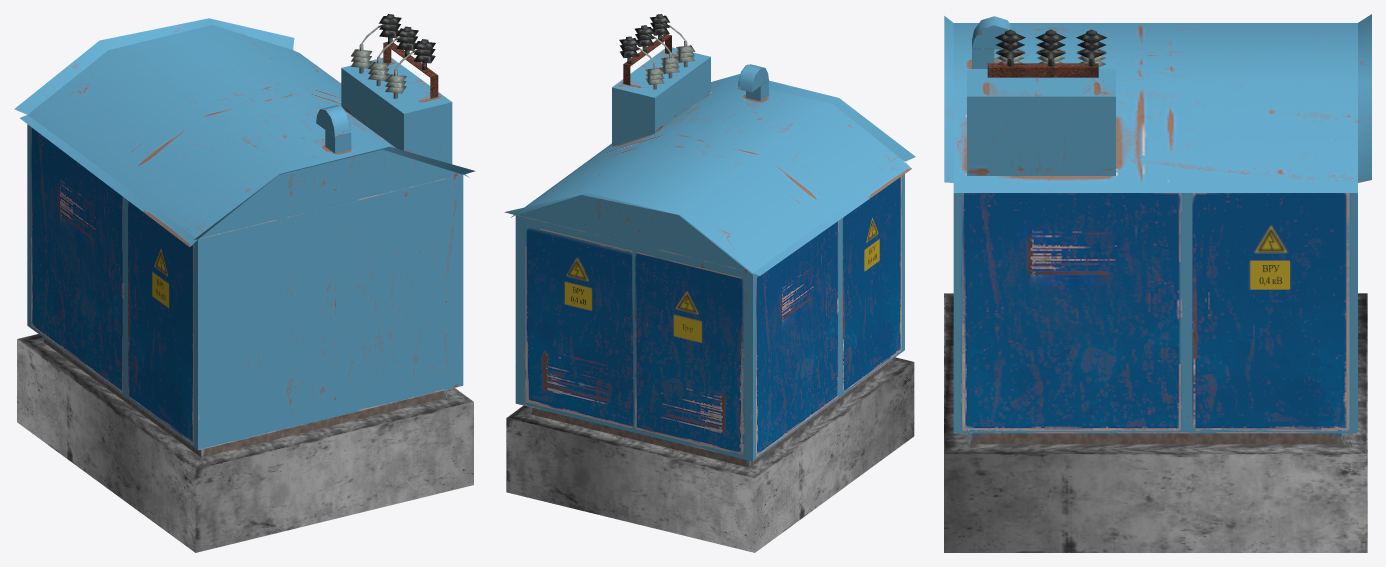
The model's file is transformer_station.obj.
3 views of the same model, side by side, from view 1: azimuth 30°, elevation 25°; view 2: azimuth 150°, elevation 25°; view 3: azimuth 270°, elevation 25° (orthographic). The views are drawn at different scales.
Parts seen in each view (by area): view 1: T-Budka, addition; view 2: T-Budka, addition; view 3: T-Budka, addition.
Boxes of the visible parts, left/top/right/bottom form: T-Budka: left=14, top=18, right=475, bottom=552; addition: left=316, top=14, right=452, bottom=164; T-Budka: left=504, top=74, right=915, bottom=552; addition: left=612, top=14, right=768, bottom=146; T-Budka: left=944, top=14, right=1371, bottom=552; addition: left=967, top=16, right=1115, bottom=175.
Bounding box in the file's own units: 1.91 × 2.78 × 2.12.
